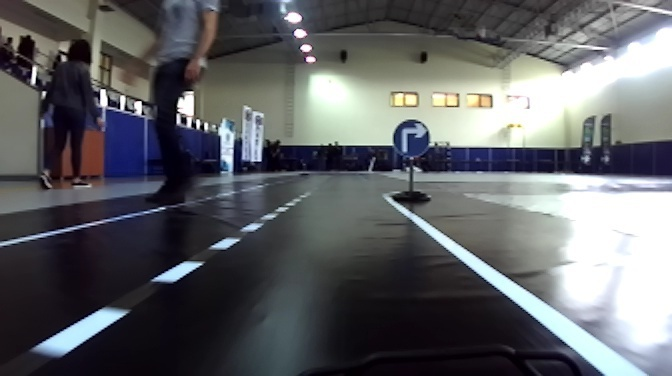saga_donus: (392, 118, 430, 159)
